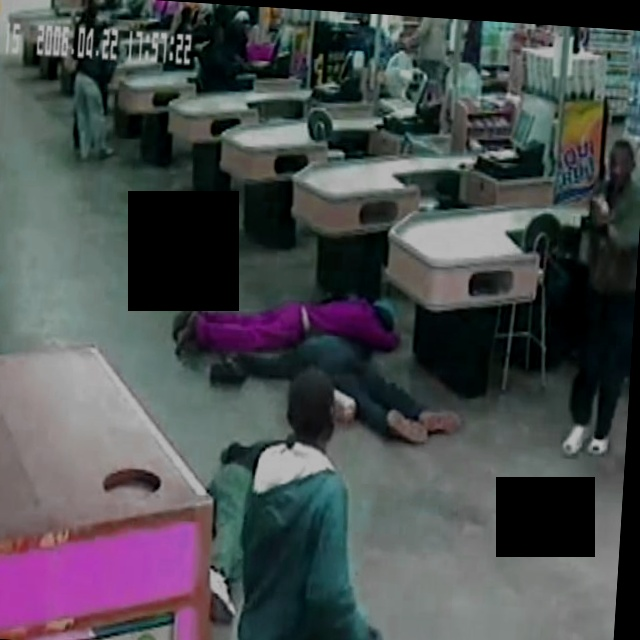gun: (579, 183, 607, 221)
